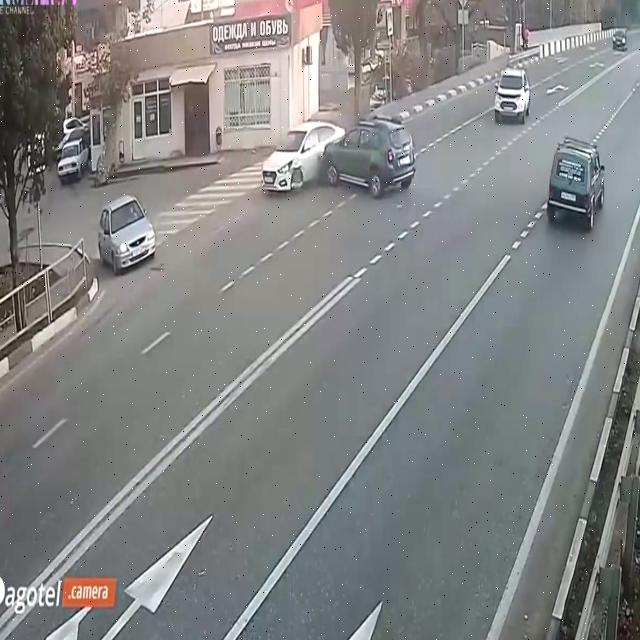accident: (257, 101, 416, 199)
